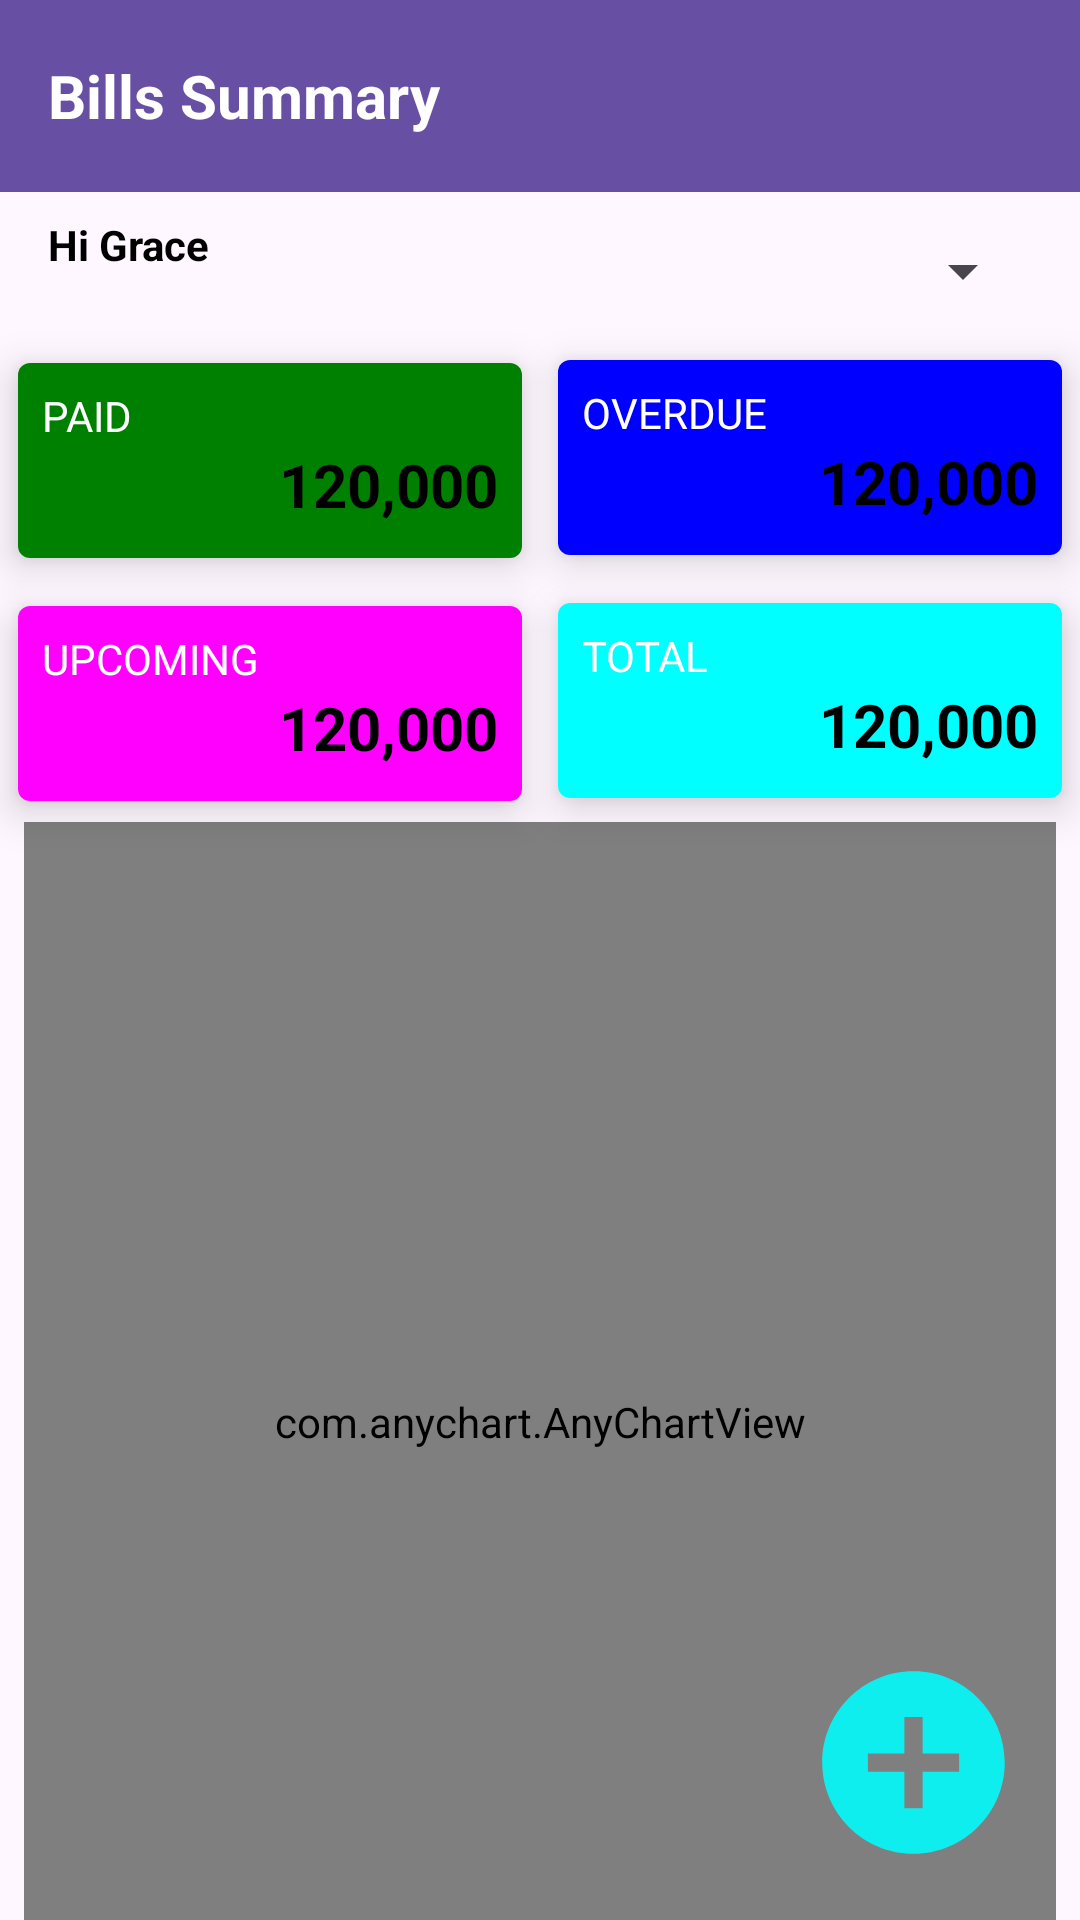

Icon click points for this 1080 × 1920 phone screenshot, format [x,y]:
add circle: [913,1762]
